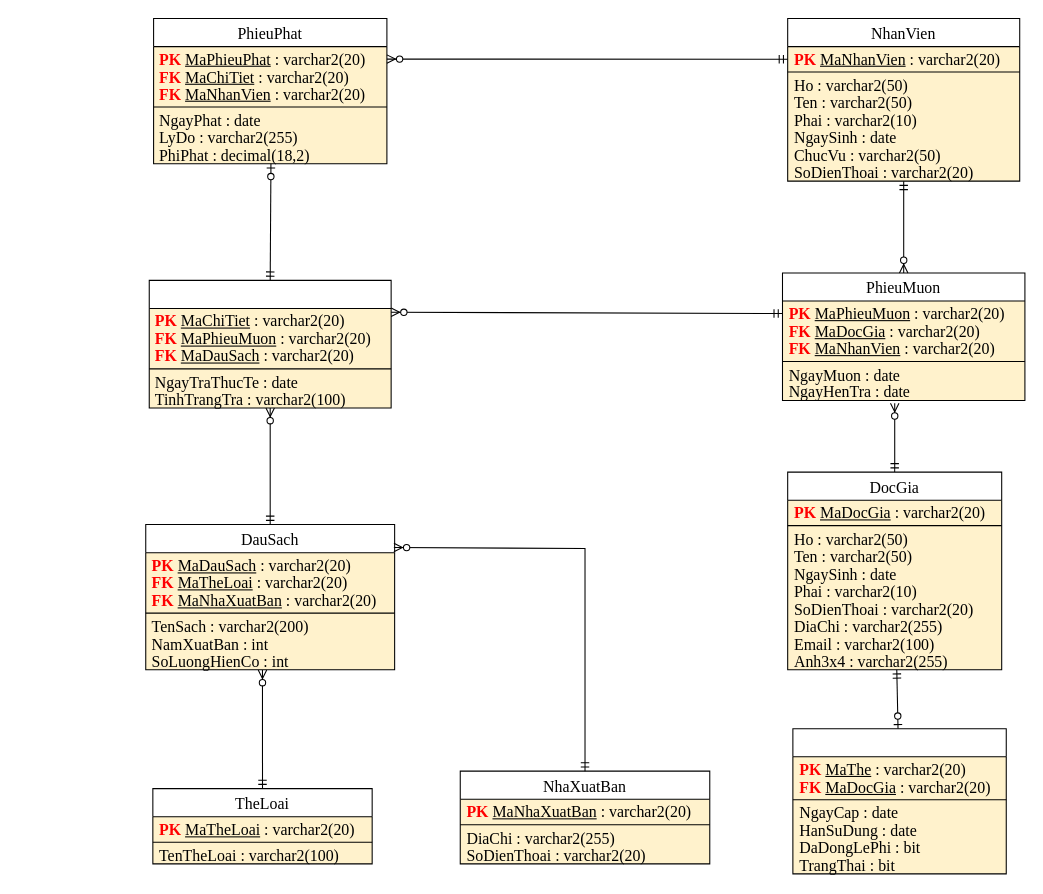
The diagram is 1043 pixels wide and 894 high, and some of its shapes have lost their labels. The shapes that lost their labels are listed below. From the top down, each one's box as (x1, y1, x2, y2) in pixels, then its label:
(148, 279, 391, 408): ChiTietPhieuMuon
(792, 728, 1006, 874): TheDocGia
